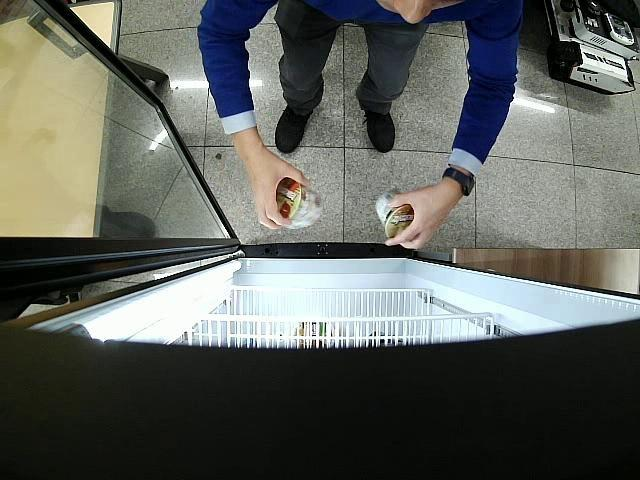04_chapagetti_S: (276, 178, 322, 228), (376, 186, 414, 237)
